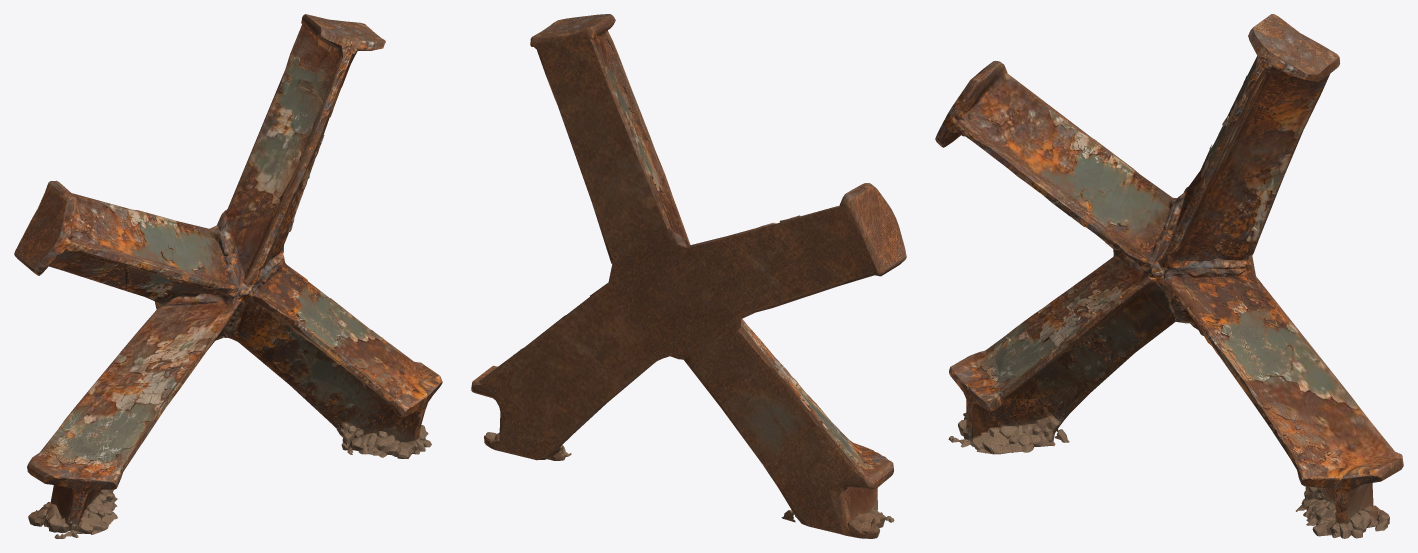
Rendered from hedgehog.glb.
3 views of the same model, side by side, from view 1: azimuth 30°, elevation 25°; view 2: azimuth 150°, elevation 25°; view 3: azimuth 330°, elevation 25° (orthographic). The views are drawn at different scales.
Parts seen in each view (by area): view 1: Mesh_0; view 2: Mesh_0; view 3: Mesh_0.
Part boxes in pixels (bbox=[...]): Mesh_0: bbox=[14, 14, 442, 538]; Mesh_0: bbox=[471, 14, 906, 538]; Mesh_0: bbox=[935, 14, 1403, 538].
Size of the model in its own units: 1.85 by 1.9 by 0.3122.
Materials: 1 (1 with a texture image).
